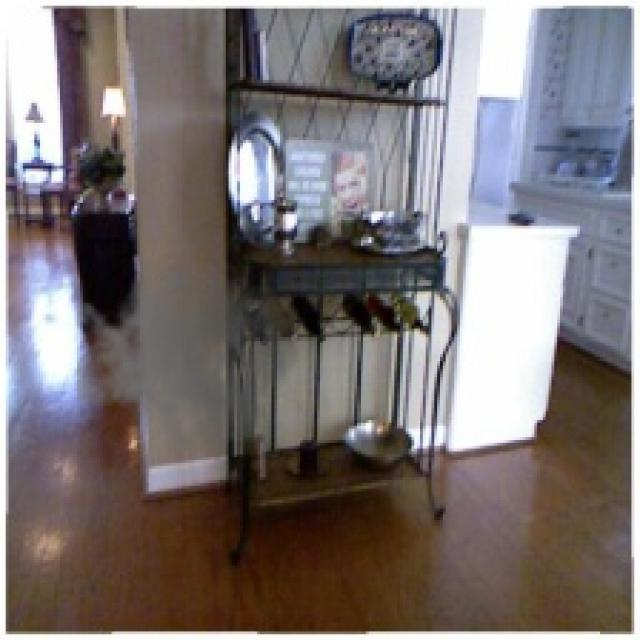Smoke: (77, 240, 300, 463)
